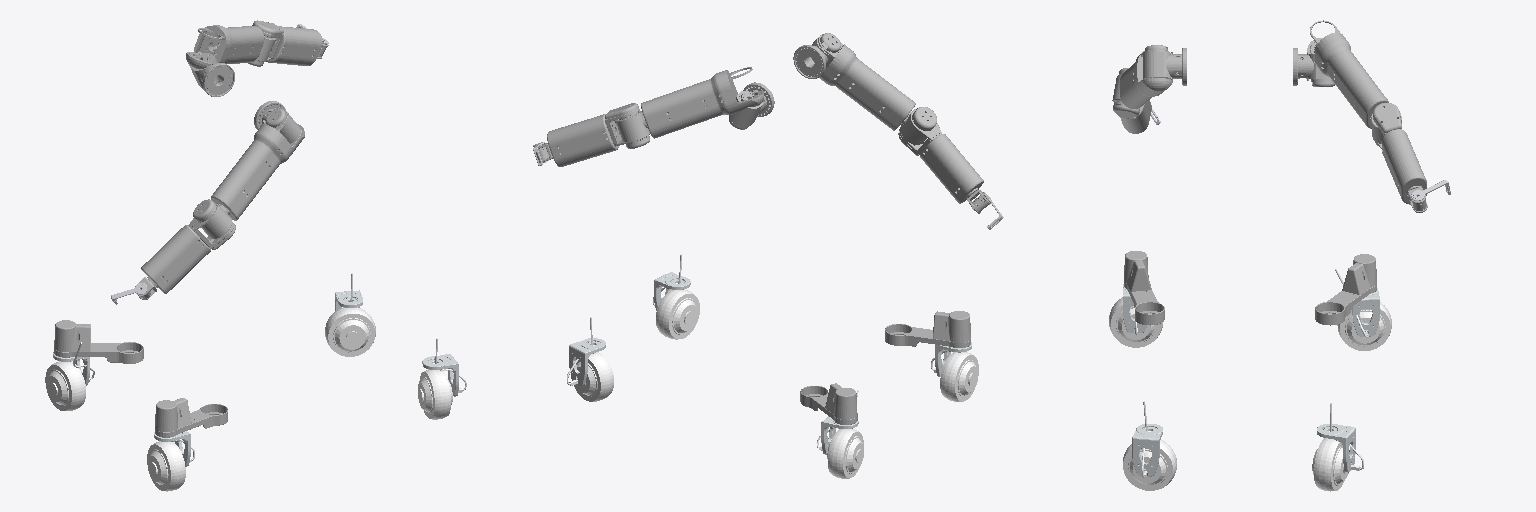
--- Render facts (derived) ---
3 views of the same robot in one strip: view 1: azimuth 30°, elevation 25°; view 2: azimuth 150°, elevation 25°; view 3: azimuth 270°, elevation 25° (orthographic).
Robot: iabot_0811 — 24 links, 23 joints (23 continuous); root link base_link; default pose: all joints at 0.
Visible links, largest first — view 1: ARM-LEFT-0002, ARM-LEFT-0004, ARM-RIGHT-0002, Leg-front-right-0003, Leg-back-right-0001, ARM-RIGHT-0004, Leg-front-left-0003, Leg-front-right-0001, Leg-front-left-0001, Leg-back-left-0001, ARM-RIGHT-0001, ARM-LEFT-0001 (+2 smaller); view 2: ARM-RIGHT-0002, ARM-LEFT-0002, ARM-RIGHT-0004, ARM-LEFT-0004, Leg-front-left-0003, Leg-back-left-0001, Leg-front-right-0003, Leg-front-left-0001, Leg-front-right-0001, Leg-back-right-0001, ARM-LEFT-0001, ARM-RIGHT-0001 (+4 smaller); view 3: ARM-RIGHT-0002, ARM-RIGHT-0004, Leg-front-right-0003, Leg-front-left-0003, Leg-back-right-0001, Leg-back-left-0001, ARM-LEFT-0002, Leg-front-right-0001, ARM-LEFT-0001, Leg-front-left-0001, Leg-back-left-0002, ARM-RIGHT-0001 (+3 smaller).
Boxes of the visible links, x1,y1,x2,y2 form: ARM-LEFT-0002: [211, 110, 304, 220]; ARM-LEFT-0004: [141, 202, 235, 293]; ARM-RIGHT-0002: [186, 25, 264, 68]; Leg-front-right-0003: [54, 320, 143, 363]; Leg-back-right-0001: [325, 273, 375, 356]; ARM-RIGHT-0004: [252, 20, 322, 65]; Leg-front-left-0003: [155, 398, 227, 437]; Leg-front-right-0001: [45, 342, 94, 410]; Leg-front-left-0001: [147, 439, 194, 491]; Leg-back-left-0001: [418, 338, 466, 419]; ARM-RIGHT-0001: [189, 53, 234, 96]; ARM-LEFT-0001: [254, 101, 300, 143]; ARM-RIGHT-0002: [641, 67, 763, 138]; ARM-LEFT-0002: [818, 34, 915, 130]; ARM-RIGHT-0004: [547, 103, 649, 166]; ARM-LEFT-0004: [898, 109, 983, 203]; Leg-front-left-0003: [885, 311, 970, 347]; Leg-back-left-0001: [653, 254, 699, 339]; Leg-front-right-0003: [800, 383, 857, 424]; Leg-front-left-0001: [931, 350, 978, 401]; Leg-front-right-0001: [817, 390, 863, 478]; Leg-back-right-0001: [567, 317, 613, 401]; ARM-LEFT-0001: [793, 33, 840, 78]; ARM-RIGHT-0001: [729, 82, 774, 129]; ARM-RIGHT-0002: [1307, 20, 1388, 128]; ARM-RIGHT-0004: [1373, 103, 1426, 204]; Leg-front-right-0003: [1315, 254, 1376, 325]; Leg-front-left-0003: [1124, 251, 1164, 325]; Leg-back-right-0001: [1312, 403, 1363, 491]; Leg-back-left-0001: [1123, 401, 1176, 490]; ARM-LEFT-0002: [1120, 50, 1172, 108]; Leg-front-right-0001: [1335, 269, 1391, 350]; ARM-LEFT-0001: [1143, 45, 1186, 85]; Leg-front-left-0001: [1109, 297, 1162, 347]; Leg-back-left-0002: [1132, 424, 1162, 476]; ARM-RIGHT-0001: [1293, 48, 1334, 86].
Bounding box of the posed robot: 1.28 × 1.01 × 1.26 m (x, y, z).
22 mesh visuals loaded from 24 distinct referenced files (22 binary STL); not drawn: 2 (reference not matched to a file when rendering).

The robot description file, URDF, robot "iabot_0811":
<?xml version="1.0" encoding="utf-8"?>
<!-- This URDF was automatically created by SolidWorks to URDF Exporter! Originally created by Stephen Brawner ([email redacted]) 
     Commit Version: 1.6.0-4-g7f85cfe  Build Version: 1.6.7995.38578
     For more information, please see http://wiki.ros.org/sw_urdf_exporter -->
<robot
  name="iabot_0811">
  <link
    name="base_link">
    <inertial>
      <origin
        xyz="0.022932 -0.005675 -0.087903"
        rpy="0 0 0" />
      <mass
        value="15.862" />
      <inertia
        ixx="0.27465"
        ixy="-7.1995E-06"
        ixz="0.0050561"
        iyy="0.13652"
        iyz="-1.5511E-05"
        izz="0.29154" />
    </inertial>
    <visual>
      <origin
        xyz="0 0 0"
        rpy="0 0 0" />
      <geometry>
        <mesh
          filename="package://iabot_0811/meshes/base_link.STL" />
      </geometry>
      <material
        name="">
        <color
          rgba="0.75294 0.75294 0.75294 1" />
      </material>
    </visual>
    <collision>
      <origin
        xyz="0 0 0"
        rpy="0 0 0" />
      <geometry>
        <mesh
          filename="package://iabot_0811/meshes/base_link.STL" />
      </geometry>
    </collision>
  </link>
  <link
    name="Leg-front-left-0003">
    <inertial>
      <origin
        xyz="-0.10474 -0.021486 0.031227"
        rpy="0 0 0" />
      <mass
        value="2" />
      <inertia
        ixx="0.00032941"
        ixy="-0.00021609"
        ixz="0.0001005"
        iyy="0.0013385"
        iyz="2.0618E-05"
        izz="0.0014664" />
    </inertial>
    <visual>
      <origin
        xyz="0 0 0"
        rpy="0 0 0" />
      <geometry>
        <mesh
          filename="package://iabot_0811/meshes/Leg-front-left-0003.STL" />
      </geometry>
      <material
        name="">
        <color
          rgba="0.75294 0.75294 0.75294 1" />
      </material>
    </visual>
    <collision>
      <origin
        xyz="0 0 0"
        rpy="0 0 0" />
      <geometry>
        <mesh
          filename="package://iabot_0811/meshes/Leg-front-left-0003.STL" />
      </geometry>
    </collision>
  </link>
  <joint
    name="Leg-front-left-0003"
    type="continuous">
    <origin
      xyz="-0.3 -0.265 -0.4179"
      rpy="0 0 0" />
    <parent
      link="base_link" />
    <child
      link="Leg-front-left-0003" />
    <axis
      xyz="0 0 -1" />
  </joint>
  <link
    name="Leg-front-left-0002">
    <inertial>
      <origin
        xyz="0.039593 -0.00010099 -0.022141"
        rpy="0 0 0" />
      <mass
        value="2" />
      <inertia
        ixx="0.00029781"
        ixy="1.2527E-07"
        ixz="8.9915E-05"
        iyy="0.00034692"
        iyz="-2.2939E-07"
        izz="0.0002269" />
    </inertial>
    <visual>
      <origin
        xyz="0 0 0"
        rpy="0 0 0" />
      <geometry>
        <mesh
          filename="package://iabot_0811/meshes/Leg-front-left-0002.STL" />
      </geometry>
      <material
        name="">
        <color
          rgba="0.89804 0.91765 0.92941 1" />
      </material>
    </visual>
    <collision>
      <origin
        xyz="0 0 0"
        rpy="0 0 0" />
      <geometry>
        <mesh
          filename="package://iabot_0811/meshes/Leg-front-left-0002.STL" />
      </geometry>
    </collision>
  </link>
  <joint
    name="Leg-front-left-0002"
    type="continuous">
    <origin
      xyz="-0.19592 -0.04019 -0.0001"
      rpy="0 0 0" />
    <parent
      link="Leg-front-left-0003" />
    <child
      link="Leg-front-left-0002" />
    <axis
      xyz="0 0 -1" />
  </joint>
  <link
    name="Leg-front-left-0001">
    <inertial>
      <origin
        xyz="0 -0.000507 -0.00045094"
        rpy="0 0 0" />
      <mass
        value="5" />
      <inertia
        ixx="0.0025574"
        ixy="-8.4207E-21"
        ixz="-1.2282E-20"
        iyy="0.0024726"
        iyz="-1.1806E-05"
        izz="0.0037023" />
    </inertial>
    <visual>
      <origin
        xyz="0 0 0"
        rpy="0 0 0" />
      <geometry>
        <mesh
          filename="package://iabot_0811/meshes/Leg-front-left-0001.STL" />
      </geometry>
      <material
        name="">
        <color
          rgba="1 1 1 1" />
      </material>
    </visual>
    <collision>
      <origin
        xyz="0 0 0"
        rpy="0 0 0" />
      <geometry>
        <mesh
          filename="package://iabot_0811/meshes/Leg-front-left-0001.STL" />
      </geometry>
    </collision>
  </link>
  <joint
    name="Leg-front-left-0001"
    type="continuous">
    <origin
      xyz="0 0 -0.102"
      rpy="-1.5708 0 1.5682" />
    <parent
      link="Leg-front-left-0002" />
    <child
      link="Leg-front-left-0001" />
    <axis
      xyz="0 0 -1" />
  </joint>
  <link
    name="Leg-front-right-0003">
    <inertial>
      <origin
        xyz="-0.092087 0.054335 0.031227"
        rpy="0 0 0" />
      <mass
        value="2" />
      <inertia
        ixx="0.00056856"
        ixy="0.00048043"
        ixz="8.8359E-05"
        iyy="0.0010993"
        iyz="-5.2134E-05"
        izz="0.0014664" />
    </inertial>
    <visual>
      <origin
        xyz="0 0 0"
        rpy="0 0 0" />
      <geometry>
        <mesh
          filename="package://iabot_0811/meshes/Leg-front-right-0003.STL" />
      </geometry>
      <material
        name="">
        <color
          rgba="0.75294 0.75294 0.75294 1" />
      </material>
    </visual>
    <collision>
      <origin
        xyz="0 0 0"
        rpy="0 0 0" />
      <geometry>
        <mesh
          filename="package://iabot_0811/meshes/Leg-front-right-0003.STL" />
      </geometry>
    </collision>
  </link>
  <joint
    name="Leg-front-right-0003"
    type="continuous">
    <origin
      xyz="-0.3 0.265 -0.4179"
      rpy="0 0 0" />
    <parent
      link="base_link" />
    <child
      link="Leg-front-right-0003" />
    <axis
      xyz="0 0 -1" />
  </joint>
  <link
    name="Leg-front-right-0002">
    <inertial>
      <origin
        xyz="0.039497 0.002755 -0.022141"
        rpy="0 0 0" />
      <mass
        value="2" />
      <inertia
        ixx="0.00029805"
        ixy="-3.409E-06"
        ixz="8.9697E-05"
        iyy="0.00034668"
        iyz="6.2567E-06"
        izz="0.0002269" />
    </inertial>
    <visual>
      <origin
        xyz="0 0 0"
        rpy="0 0 0" />
      <geometry>
        <mesh
          filename="package://iabot_0811/meshes/Leg-front-right-0002.STL" />
      </geometry>
      <material
        name="">
        <color
          rgba="0.89804 0.91765 0.92941 1" />
      </material>
    </visual>
    <collision>
      <origin
        xyz="0 0 0"
        rpy="0 0 0" />
      <geometry>
        <mesh
          filename="package://iabot_0811/meshes/Leg-front-right-0002.STL" />
      </geometry>
    </collision>
  </link>
  <joint
    name="Leg-front-right-0002"
    type="continuous">
    <origin
      xyz="-0.17225 0.10163 -0.0001"
      rpy="0 0 0" />
    <parent
      link="Leg-front-right-0003" />
    <child
      link="Leg-front-right-0002" />
    <axis
      xyz="0 0 -1" />
  </joint>
  <link
    name="Leg-front-right-0001">
    <inertial>
      <origin
        xyz="0.00021715 0.00045814 -0.00045094"
        rpy="0 0 0" />
      <mass
        value="5" />
      <inertia
        ixx="0.0025419"
        ixy="-3.2827E-05"
        ixz="5.0567E-06"
        iyy="0.0024882"
        iyz="1.0668E-05"
        izz="0.0037023" />
    </inertial>
    <visual>
      <origin
        xyz="0 0 0"
        rpy="0 0 0" />
      <geometry>
        <mesh
          filename="package://iabot_0811/meshes/Leg-front-right-0001.STL" />
      </geometry>
      <material
        name="">
        <color
          rgba="1 1 1 1" />
      </material>
    </visual>
    <collision>
      <origin
        xyz="0 0 0"
        rpy="0 0 0" />
      <geometry>
        <mesh
          filename="package://iabot_0811/meshes/Leg-front-right-0001.STL" />
      </geometry>
    </collision>
  </link>
  <joint
    name="Leg-front-right-0001"
    type="continuous">
    <origin
      xyz="0 0 -0.102"
      rpy="1.5708 0 -1.5012" />
    <parent
      link="Leg-front-right-0002" />
    <child
      link="Leg-front-right-0001" />
    <axis
      xyz="0 0 -1" />
  </joint>
  <link
    name="Leg-back-left-0002">
    <inertial>
      <origin
        xyz="0.03886 -0.0075811 -0.022141"
        rpy="0 0 0" />
      <mass
        value="2" />
      <inertia
        ixx="0.00029961"
        ixy="9.2295E-06"
        ixz="8.8251E-05"
        iyy="0.00034512"
        iyz="-1.7217E-05"
        izz="0.0002269" />
    </inertial>
    <visual>
      <origin
        xyz="0 0 0"
        rpy="0 0 0" />
      <geometry>
        <mesh
          filename="package://iabot_0811/meshes/Leg-back-left-0002.STL" />
      </geometry>
      <material
        name="">
        <color
          rgba="0.89804 0.91765 0.92941 1" />
      </material>
    </visual>
    <collision>
      <origin
        xyz="0 0 0"
        rpy="0 0 0" />
      <geometry>
        <mesh
          filename="package://iabot_0811/meshes/Leg-back-left-0002.STL" />
      </geometry>
    </collision>
  </link>
  <joint
    name="Leg-back-left-0002"
    type="continuous">
    <origin
      xyz="0.5 -0.265 -0.418"
      rpy="0 0 0" />
    <parent
      link="base_link" />
    <child
      link="Leg-back-left-0002" />
    <axis
      xyz="0 0 -1" />
  </joint>
  <link
    name="Leg-back-left-0001">
    <inertial>
      <origin
        xyz="4.2919E-05 0.00050518 -0.00045094"
        rpy="0 0 0" />
      <mass
        value="5" />
      <inertia
        ixx="0.0025568"
        ixy="-7.1543E-06"
        ixz="9.9944E-07"
        iyy="0.0024732"
        iyz="1.1764E-05"
        izz="0.0037023" />
    </inertial>
    <visual>
      <origin
        xyz="0 0 0"
        rpy="0 0 0" />
      <geometry>
        <mesh
          filename="package://iabot_0811/meshes/Leg-back-left-0001.STL" />
      </geometry>
      <material
        name="">
        <color
          rgba="1 1 1 1" />
      </material>
    </visual>
    <collision>
      <origin
        xyz="0 0 0"
        rpy="0 0 0" />
      <geometry>
        <mesh
          filename="package://iabot_0811/meshes/Leg-back-left-0001.STL" />
      </geometry>
    </collision>
  </link>
  <joint
    name="Leg-back-left-0001"
    type="continuous">
    <origin
      xyz="0 0 -0.102"
      rpy="1.5708 0 -1.7635" />
    <parent
      link="Leg-back-left-0002" />
    <child
      link="Leg-back-left-0001" />
    <axis
      xyz="0 0 -1" />
  </joint>
  <link
    name="Leg-back-right-0002">
    <inertial>
      <origin
        xyz="0.013992 0.037038 -0.022141"
        rpy="0 0 0" />
      <mass
        value="2" />
      <inertia
        ixx="0.00034079"
        ixy="-1.6236E-05"
        ixz="3.1777E-05"
        iyy="0.00030394"
        iyz="8.4113E-05"
        izz="0.0002269" />
    </inertial>
    <visual>
      <origin
        xyz="0 0 0"
        rpy="0 0 0" />
      <geometry>
        <mesh
          filename="package://iabot_0811/meshes/Leg-back-right-0002.STL" />
      </geometry>
      <material
        name="">
        <color
          rgba="0.89804 0.91765 0.92941 1" />
      </material>
    </visual>
    <collision>
      <origin
        xyz="0 0 0"
        rpy="0 0 0" />
      <geometry>
        <mesh
          filename="package://iabot_0811/meshes/Leg-back-right-0002.STL" />
      </geometry>
    </collision>
  </link>
  <joint
    name="Leg-back-right-0002"
    type="continuous">
    <origin
      xyz="0.5 0.265 -0.418"
      rpy="0 0 0" />
    <parent
      link="base_link" />
    <child
      link="Leg-back-right-0002" />
    <axis
      xyz="0 0 -1" />
  </joint>
  <link
    name="Leg-back-right-0001">
    <inertial>
      <origin
        xyz="1.4628E-05 0.00050678 -0.00045094"
        rpy="0 0 0" />
      <mass
        value="5" />
      <inertia
        ixx="0.0025573"
        ixy="-2.4462E-06"
        ixz="3.4064E-07"
        iyy="0.0024727"
        iyz="1.1801E-05"
        izz="0.0037023" />
    </inertial>
    <visual>
      <origin
        xyz="0 0 0"
        rpy="0 0 0" />
      <geometry>
        <mesh
          filename="package://iabot_0811/meshes/Leg-back-right-0001.STL" />
      </geometry>
      <material
        name="">
        <color
          rgba="1 1 1 1" />
      </material>
    </visual>
    <collision>
      <origin
        xyz="0 0 0"
        rpy="0 0 0" />
      <geometry>
        <mesh
          filename="package://iabot_0811/meshes/Leg-back-right-0001.STL" />
      </geometry>
    </collision>
  </link>
  <joint
    name="Leg-back-right-0001"
    type="continuous">
    <origin
      xyz="0.0014136 0.0037419 -0.102"
      rpy="1.5708 0 -0.36121" />
    <parent
      link="Leg-back-right-0002" />
    <child
      link="Leg-back-right-0001" />
    <axis
      xyz="0 0 -1" />
  </joint>
  <link
    name="Chest">
    <inertial>
      <origin
        xyz="0.013806 0.285 -0.036079"
        rpy="0 0 0" />
      <mass
        value="30" />
      <inertia
        ixx="0.055468"
        ixy="-0.0016858"
        ixz="-2.666E-07"
        iyy="0.031869"
        iyz="1.886E-08"
        izz="0.040066" />
    </inertial>
    <visual>
      <origin
        xyz="0 0 0"
        rpy="0 0 0" />
      <geometry>
        <mesh
          filename="package://iabot_0811/meshes/Chest.STL" />
      </geometry>
      <material
        name="">
        <color
          rgba="0.75294 0.75294 0.75294 1" />
      </material>
    </visual>
    <collision>
      <origin
        xyz="0 0 0"
        rpy="0 0 0" />
      <geometry>
        <mesh
          filename="package://iabot_0811/meshes/Chest.STL" />
      </geometry>
    </collision>
  </link>
  <joint
    name="chest"
    type="continuous">
    <origin
      xyz="0 0.036 0"
      rpy="1.5708 0 -3.1416" />
    <parent
      link="base_link" />
    <child
      link="Chest" />
    <axis
      xyz="0 0 -1" />
  </joint>
  <link
    name="ARM-LEFT-0001">
    <inertial>
      <origin
        xyz="-0.00076558 0.001048 0.033636"
        rpy="0 0 0" />
      <mass
        value="2" />
      <inertia
        ixx="0.00037018"
        ixy="-1.8159E-05"
        ixz="-2.7968E-06"
        iyy="0.00038248"
        iyz="3.7131E-06"
        izz="0.00037932" />
    </inertial>
    <visual>
      <origin
        xyz="0 0 0"
        rpy="0 0 0" />
      <geometry>
        <mesh
          filename="package://iabot_0811/meshes/ARM-LEFT-0001.STL" />
      </geometry>
      <material
        name="">
        <color
          rgba="0.75294 0.75294 0.75294 1" />
      </material>
    </visual>
    <collision>
      <origin
        xyz="0 0 0"
        rpy="0 0 0" />
      <geometry>
        <mesh
          filename="package://iabot_0811/meshes/ARM-LEFT-0001.STL" />
      </geometry>
    </collision>
  </link>
  <joint
    name="ARM-LEFT-0001"
    type="continuous">
    <origin
      xyz="0.036864 0.51869 -0.2055"
      rpy="-3.1416 0 -3.1416" />
    <parent
      link="Chest" />
    <child
      link="ARM-LEFT-0001" />
    <axis
      xyz="0 0 1" />
  </joint>
  <link
    name="ARM-LEFT-0002">
    <inertial>
      <origin
        xyz="-0.033283 -0.15426 -0.037548"
        rpy="0 0 0" />
      <mass
        value="2" />
      <inertia
        ixx="0.010927"
        ixy="-0.0020367"
        ixz="-4.0125E-05"
        iyy="0.0019296"
        iyz="-0.00018566"
        izz="0.011775" />
    </inertial>
    <visual>
      <origin
        xyz="0 0 0"
        rpy="0 0 0" />
      <geometry>
        <mesh
          filename="package://iabot_0811/meshes/ARM-LEFT-0002.STL" />
      </geometry>
      <material
        name="">
        <color
          rgba="0.75294 0.75294 0.75294 1" />
      </material>
    </visual>
    <collision>
      <origin
        xyz="0 0 0"
        rpy="0 0 0" />
      <geometry>
        <mesh
          filename="package://iabot_0811/meshes/ARM-LEFT-0002.STL" />
      </geometry>
    </collision>
  </link>
  <joint
    name="ARM-LEFT-0002"
    type="continuous">
    <origin
      xyz="0.027374 -0.038205 0.0755"
      rpy="0.94908 1.5708 0" />
    <parent
      link="ARM-LEFT-0001" />
    <child
      link="ARM-LEFT-0002" />
    <axis
      xyz="0 0 -1" />
  </joint>
  <link
    name="ARM-LEFT-0003">
    <inertial>
      <origin
        xyz="-0.0015113 0.0054329 0.062423"
        rpy="0 0 0" />
      <mass
        value="2" />
      <inertia
        ixx="0.00018625"
        ixy="-1.5658E-05"
        ixz="9.9593E-07"
        iyy="0.00022517"
        iyz="5.7781E-07"
        izz="0.00015848" />
    </inertial>
    <visual>
      <origin
        xyz="0 0 0"
        rpy="0 0 0" />
      <geometry>
        <mesh
          filename="package://iabot_0811/meshes/ARM-LEFT-0003.STL" />
      </geometry>
      <material
        name="">
        <color
          rgba="0.75294 0.75294 0.75294 1" />
      </material>
    </visual>
    <collision>
      <origin
        xyz="0 0 0"
        rpy="0 0 0" />
      <geometry>
        <mesh
          filename="package://iabot_0811/meshes/ARM-LEFT-0003.STL" />
      </geometry>
    </collision>
  </link>
  <joint
    name="ARM-LEFT-0003"
    type="continuous">
    <origin
      xyz="-0.063297 -0.29335 -0.03975"
      rpy="-1.5708 -0.14999 2.9291" />
    <parent
      link="ARM-LEFT-0002" />
    <child
      link="ARM-LEFT-0003" />
    <axis
      xyz="0 0 1" />
  </joint>
  <link
    name="ARM-LEFT-0004">
    <inertial>
      <origin
        xyz="-0.018867 -0.14394 -0.039037"
        rpy="0 0 0" />
      <mass
        value="1.3" />
      <inertia
        ixx="0.0029852"
        ixy="-0.00029143"
        ixz="-6.3415E-06"
        iyy="0.00079999"
        iyz="-4.8381E-05"
        izz="0.0032421" />
    </inertial>
    <visual>
      <origin
        xyz="0 0 0"
        rpy="0 0 0" />
      <geometry>
        <mesh
          filename="package://iabot_0811/meshes/ARM-LEFT-0004.STL" />
      </geometry>
      <material
        name="">
        <color
          rgba="0.75294 0.75294 0.75294 1" />
      </material>
    </visual>
    <collision>
      <origin
        xyz="0 0 0"
        rpy="0 0 0" />
      <geometry>
        <mesh
          filename="package://iabot_0811/meshes/ARM-LEFT-0004.STL" />
      </geometry>
    </collision>
  </link>
  <joint
    name="ARM-LEFT-0004"
    type="continuous">
    <origin
      xyz="0.014316 -0.042398 0.079053"
      rpy="-1.5708 0.43318 -2.8156" />
    <parent
      link="ARM-LEFT-0003" />
    <child
      link="ARM-LEFT-0004" />
    <axis
      xyz="0 0 1" />
  </joint>
  <link
    name="ARM-LEFT-0005">
    <inertial>
      <origin
        xyz="0.00094319 0.0013084 0.0099139"
        rpy="0 0 0" />
      <mass
        value="0.5" />
      <inertia
        ixx="1.1212E-05"
        ixy="-1.3126E-06"
        ixz="-3.0852E-07"
        iyy="1.0338E-05"
        iyz="-4.2797E-07"
        izz="1.2718E-05" />
    </inertial>
    <visual>
      <origin
        xyz="0 0 0"
        rpy="0 0 0" />
      <geometry>
        <mesh
          filename="package://iabot_0811/meshes/ARM-LEFT-0005.STL" />
      </geometry>
      <material
        name="">
        <color
          rgba="0.75294 0.75294 0.75294 1" />
      </material>
    </visual>
    <collision>
      <origin
        xyz="0 0 0"
        rpy="0 0 0" />
      <geometry>
        <mesh
          filename="package://iabot_0811/meshes/ARM-LEFT-0005.STL" />
      </geometry>
    </collision>
  </link>
  <joint
    name="ARM-LEFT-0005"
    type="continuous">
    <origin
      xyz="-0.036317 -0.27707 -0.04225"
      rpy="-1.5708 -0.10429 3.0113" />
    <parent
      link="ARM-LEFT-0004" />
    <child
      link="ARM-LEFT-0005" />
    <axis
      xyz="0 0 1" />
  </joint>
  <link
    name="ARM-LEFT-0006">
    <inertial>
      <origin
        xyz="-0.05069 -0.02351 -0.0098048"
        rpy="0 0 0" />
      <mass
        value="0.2" />
      <inertia
        ixx="8.5224E-06"
        ixy="-8.2216E-06"
        ixz="-4.9023E-06"
        iyy="2.2436E-05"
        iyz="-2.2737E-06"
        izz="2.2874E-05" />
    </inertial>
    <visual>
      <origin
        xyz="0 0 0"
        rpy="0 0 0" />
      <geometry>
        <mesh
          filename="package://iabot_0811/meshes/ARM-LEFT-0006.STL" />
      </geometry>
      <material
        name="">
        <color
          rgba="0.86667 0.86667 0.8902 1" />
      </material>
    </visual>
    <collision>
      <origin
        xyz="0 0 0"
        rpy="0 0 0" />
      <geometry>
        <mesh
          filename="package://iabot_0811/meshes/ARM-LEFT-0006.STL" />
      </geometry>
    </collision>
  </link>
  <joint
    name="ARM-LEFT-0006"
    type="continuous">
    <origin
      xyz="0.017543 0.024336 0.0335"
      rpy="-1.5708 0.63466 -0.62461" />
    <parent
      link="ARM-LEFT-0005" />
    <child
      link="ARM-LEFT-0006" />
    <axis
      xyz="0 0 -1" />
  </joint>
  <link
    name="ARM-RIGHT-0001">
    <inertial>
      <origin
        xyz="-0.00050887 -0.0011939 0.033636"
        rpy="0 0 0" />
      <mass
        value="2" />
      <inertia
        ixx="0.0003633"
        ixy="1.4064E-05"
        ixz="-1.7599E-06"
        iyy="0.00038936"
        iyz="-4.3025E-06"
        izz="0.00037932" />
    </inertial>
    <visual>
      <origin
        xyz="0 0 0"
        rpy="0 0 0" />
      <geometry>
        <mesh
          filename="package://iabot_0811/meshes/ARM-RIGHT-0001.STL" />
      </geometry>
      <material
        name="">
        <color
          rgba="0.75294 0.75294 0.75294 1" />
      </material>
    </visual>
    <collision>
      <origin
        xyz="0 0 0"
        rpy="0 0 0" />
      <geometry>
        <mesh
          filename="package://iabot_0811/meshes/ARM-RIGHT-0001.STL" />
      </geometry>
    </collision>
  </link>
  <joint
    name="ARM-RIGHT-0001"
    type="continuous">
    <origin
      xyz="0.036864 0.51869 0.1335"
      rpy="0 0 0" />
    <parent
      link="Chest" />
    <child
      link="ARM-RIGHT-0001" />
    <axis
      xyz="0 0 1" />
  </joint>
  <link
    name="ARM-RIGHT-0002">
    <inertial>
      <origin
        xyz="-0.077801 -0.1373 -0.037549"
        rpy="0 0 0" />
      <mass
        value="2" />
      <inertia
        ixx="0.0089655"
        ixy="-0.0042365"
        ixz="-9.3701E-05"
        iyy="0.0038909"
        iyz="-0.00016523"
        izz="0.011775" />
    </inertial>
    <visual>
      <origin
        xyz="0 0 0"
        rpy="0 0 0" />
      <geometry>
        <mesh
          filename="package://iabot_0811/meshes/ARM-RIGHT-0002.STL" />
      </geometry>
      <material
        name="">
        <color
          rgba="0.75294 0.75294 0.75294 1" />
      </material>
    </visual>
    <collision>
      <origin
        xyz="0 0 0"
        rpy="0 0 0" />
      <geometry>
        <mesh
          filename="package://iabot_0811/meshes/ARM-RIGHT-0002.STL" />
      </geometry>
    </collision>
  </link>
  <joint
    name="ARM-RIGHT-0002"
    type="continuous">
    <origin
      xyz="0.018826 0.043065 0.0755"
      rpy="1.1587 1.5708 0" />
    <parent
      link="ARM-RIGHT-0001" />
    <child
      link="ARM-RIGHT-0002" />
    <axis
      xyz="0 0 -1" />
  </joint>
  <link
    name="ARM-RIGHT-0003">
    <inertial>
      <origin
        xyz="0.0012721 0.0054938 0.062422"
        rpy="0 0 0" />
      <mass
        value="2" />
      <inertia
        ixx="0.000182"
        ixy="7.8608E-06"
        ixz="1.151E-06"
        iyy="0.00022941"
        iyz="3.0942E-08"
        izz="0.00015848" />
    </inertial>
    <visual>
      <origin
        xyz="0 0 0"
        rpy="0 0 0" />
      <geometry>
        <mesh
          filename="package://iabot_0811/meshes/ARM-RIGHT-0003.STL" />
      </geometry>
      <material
        name="">
        <color
          rgba="0.75294 0.75294 0.75294 1" />
      </material>
    </visual>
    <collision>
      <origin
        xyz="0 0 0"
        rpy="0 0 0" />
      <geometry>
        <mesh
          filename="package://iabot_0811/meshes/ARM-RIGHT-0003.STL" />
      </geometry>
    </collision>
  </link>
  <joint
    name="ARM-RIGHT-0003"
    type="continuous">
    <origin
      xyz="-0.14795 -0.26109 -0.03975"
      rpy="1.5708 -0.21227 -0.51554" />
    <parent
      link="ARM-RIGHT-0002" />
    <child
      link="ARM-RIGHT-0003" />
    <axis
      xyz="0 0 1" />
  </joint>
  <link
    name="ARM-RIGHT-0004">
    <inertial>
      <origin
        xyz="-0.032471 -0.1415 0.039037"
        rpy="0 0 0" />
      <mass
        value="1.3" />
      <inertia
        ixx="0.0029102"
        ixy="-0.00049302"
        ixz="1.0914E-05"
        iyy="0.00087492"
        iyz="4.7559E-05"
        izz="0.0032421" />
    </inertial>
    <visual>
      <origin
        xyz="0 0 0"
        rpy="0 0 0" />
      <geometry>
        <mesh
          filename="package://iabot_0811/meshes/ARM-RIGHT-0004.STL" />
      </geometry>
      <material
        name="">
        <color
          rgba="0.75294 0.75294 0.75294 1" />
      </material>
    </visual>
    <collision>
      <origin
        xyz="0 0 0"
        rpy="0 0 0" />
      <geometry>
        <mesh
          filename="package://iabot_0811/meshes/ARM-RIGHT-0004.STL" />
      </geometry>
    </collision>
  </link>
  <joint
    name="ARM-RIGHT-0004"
    type="continuous">
    <origin
      xyz="-0.007684 -0.044085 0.079055"
      rpy="-1.5708 0.43322 -0.17282" />
    <parent
      link="ARM-RIGHT-0003" />
    <child
      link="ARM-RIGHT-0004" />
    <axis
      xyz="0 0 -1" />
  </joint>
  <link
    name="ARM-RIGHT-0005">
    <inertial>
      <origin
        xyz="-5.9771E-07 -0.0016129 0.0099139"
        rpy="0 0 0" />
      <mass
        value="0.5" />
      <inertia
        ixx="1.2159E-05"
        ixy="-1.0038E-09"
        ixz="1.9162E-10"
        iyy="9.3915E-06"
        iyz="5.2758E-07"
        izz="1.2718E-05" />
    </inertial>
    <visual>
      <origin
        xyz="0 0 0"
        rpy="0 0 0" />
      <geometry>
        <mesh
          filename="package://iabot_0811/meshes/ARM-RIGHT-0005.STL" />
      </geometry>
      <material
        name="">
        <color
          rgba="0.75294 0.75294 0.75294 1" />
      </material>
    </visual>
    <collision>
      <origin
        xyz="0 0 0"
        rpy="0 0 0" />
      <geometry>
        <mesh
          filename="package://iabot_0811/meshes/ARM-RIGHT-0005.STL" />
      </geometry>
    </collision>
  </link>
  <joint
    name="ARM-RIGHT-0005"
    type="continuous">
    <origin
      xyz="-0.062502 -0.27236 0.04225"
      rpy="1.5708 -0.092739 -0.22557" />
    <parent
      link="ARM-RIGHT-0004" />
    <child
      link="ARM-RIGHT-0005" />
    <axis
      xyz="0 0 1" />
  </joint>
  <link
    name="ARM-RIGHT-0006">
    <inertial>
      <origin
        xyz="0.054965 0.010053 -0.0098048"
        rpy="0 0 0" />
      <mass
        value="0.2" />
      <inertia
        ixx="5.4065E-06"
        ixy="-3.8122E-06"
        ixz="5.3157E-06"
        iyy="2.5552E-05"
        iyz="9.7228E-07"
        izz="2.2874E-05" />
    </inertial>
    <visual>
      <origin
        xyz="0 0 0"
        rpy="0 0 0" />
      <geometry>
        <mesh
          filename="package://iabot_0811/meshes/ARM-RIGHT-0006.STL" />
      </geometry>
      <material
        name="">
        <color
          rgba="0.86667 0.86667 0.8902 1" />
      </material>
    </visual>
    <collision>
      <origin
        xyz="0 0 0"
        rpy="0 0 0" />
      <geometry>
        <mesh
          filename="package://iabot_0811/meshes/ARM-RIGHT-0006.STL" />
      </geometry>
    </collision>
  </link>
  <joint
    name="ARM-RIGHT-0006"
    type="continuous">
    <origin
      xyz="-1.093E-05 -0.03 0.0335"
      rpy="-1.5708 -0.0009028 3.1412" />
    <parent
      link="ARM-RIGHT-0005" />
    <child
      link="ARM-RIGHT-0006" />
    <axis
      xyz="0 0 -1" />
  </joint>
</robot>
